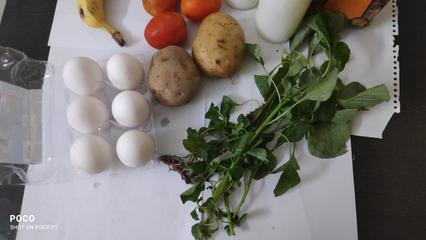eggs: (50, 52, 160, 176)
potato: (192, 13, 251, 73), (148, 43, 199, 93)
spinach: (179, 32, 348, 230)
tomato: (125, 1, 214, 41)
